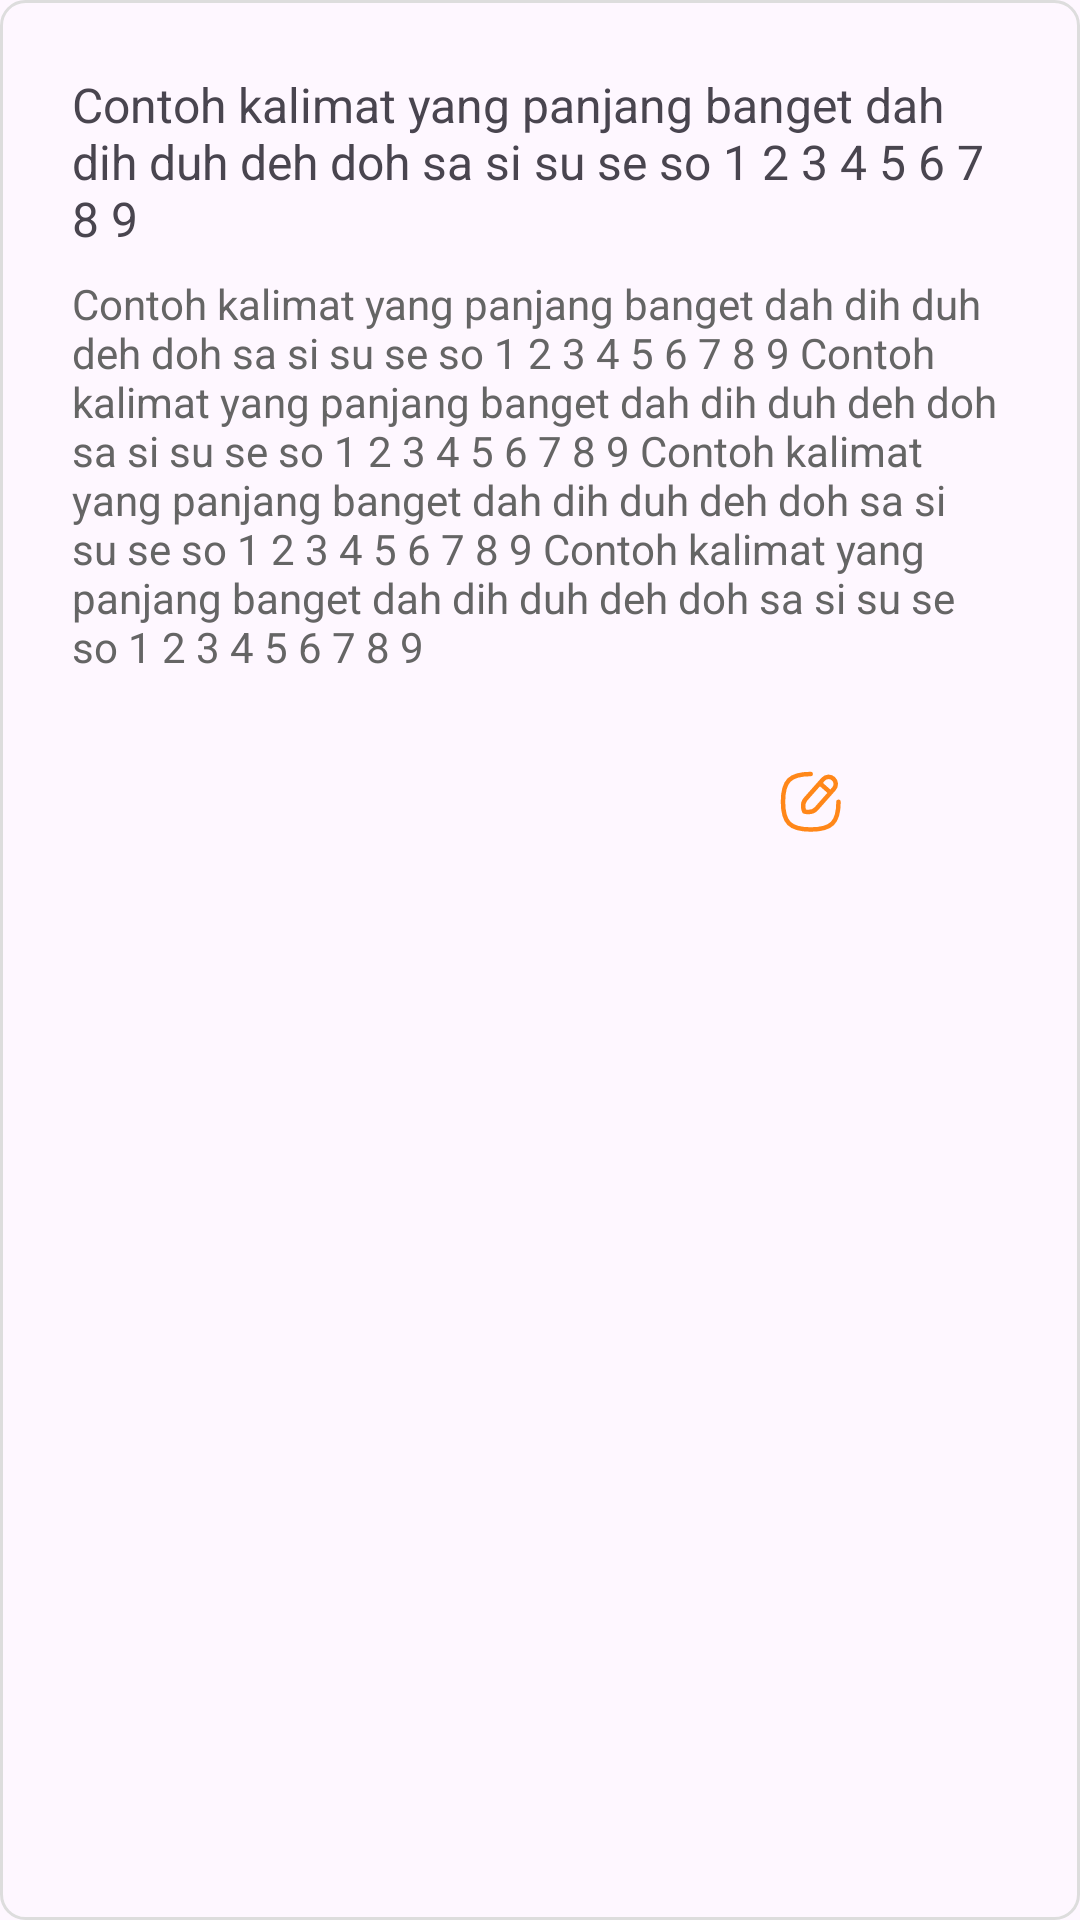

Named icons in this screenshot (1080×1920) and their centers, point (x, y):
Edit Icon: point (810, 801)
